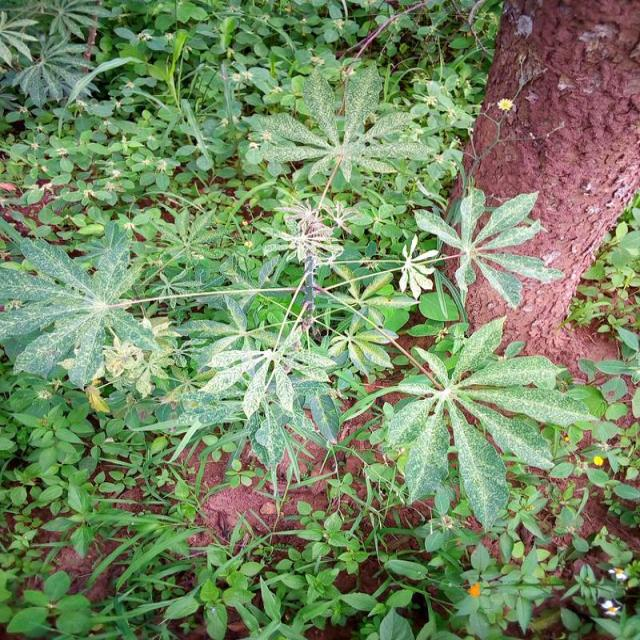cassava leaf: (0, 218, 161, 392)
